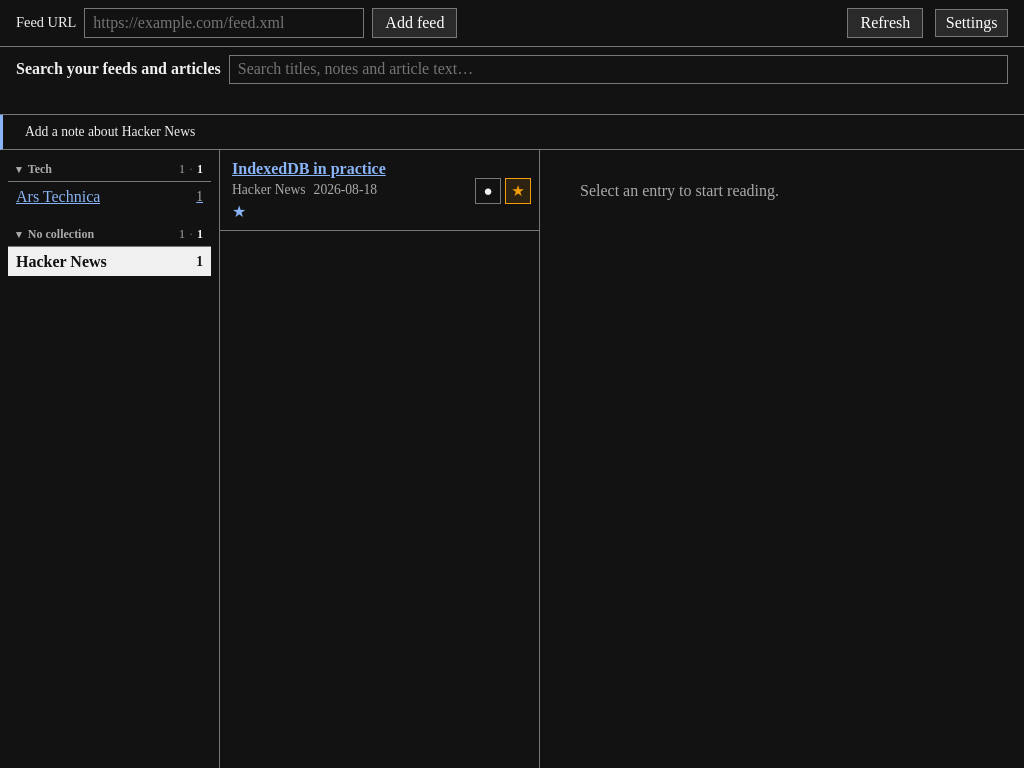
Test: App › selection › selecting an entry marks it current in the list and renders it in the reading pane
Click the button "IndexedDB in practice Hacker News 2026-08-18 ★".
click(380, 191)  # box [220, 150, 539, 231]
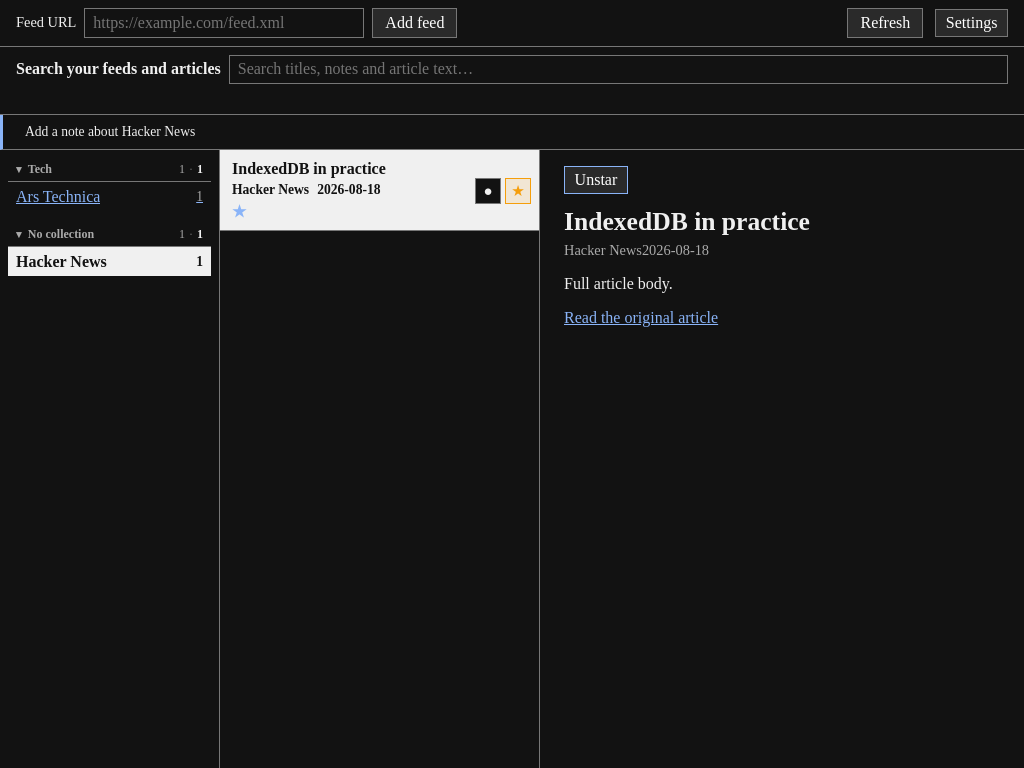
Now the heading "IndexedDB in practice" is shown, box [564, 207, 810, 236]
